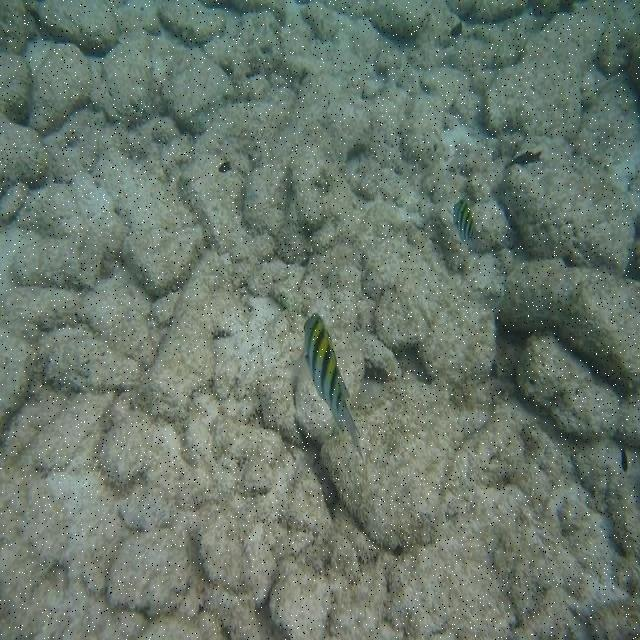fish: (301, 315, 361, 447), (452, 202, 483, 255)
